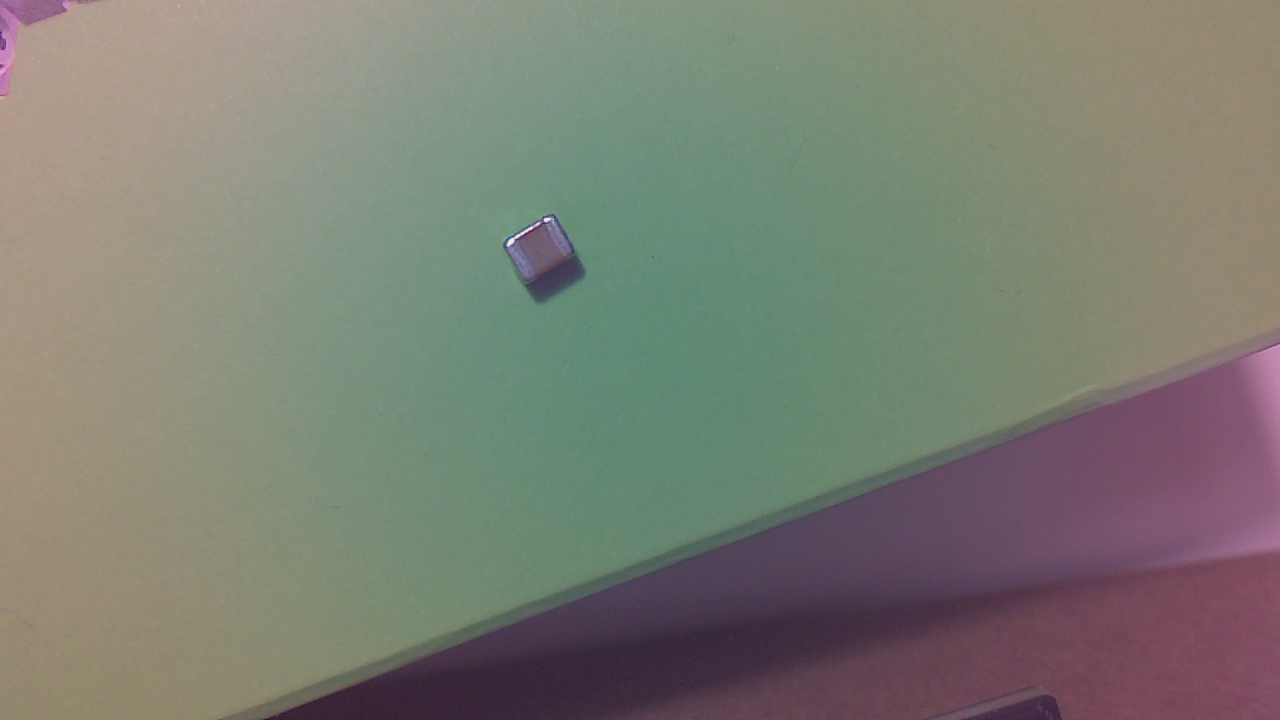Condensator: (509, 218, 581, 288)
